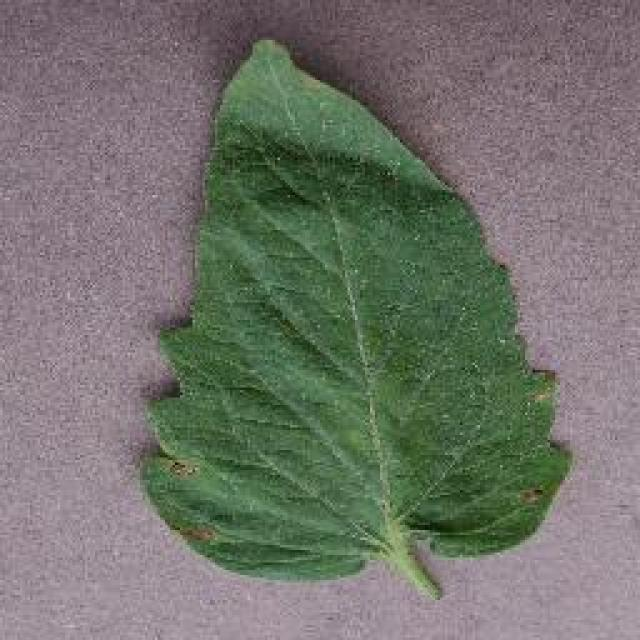Tomato___Target_Spot: (145, 40, 568, 598)
